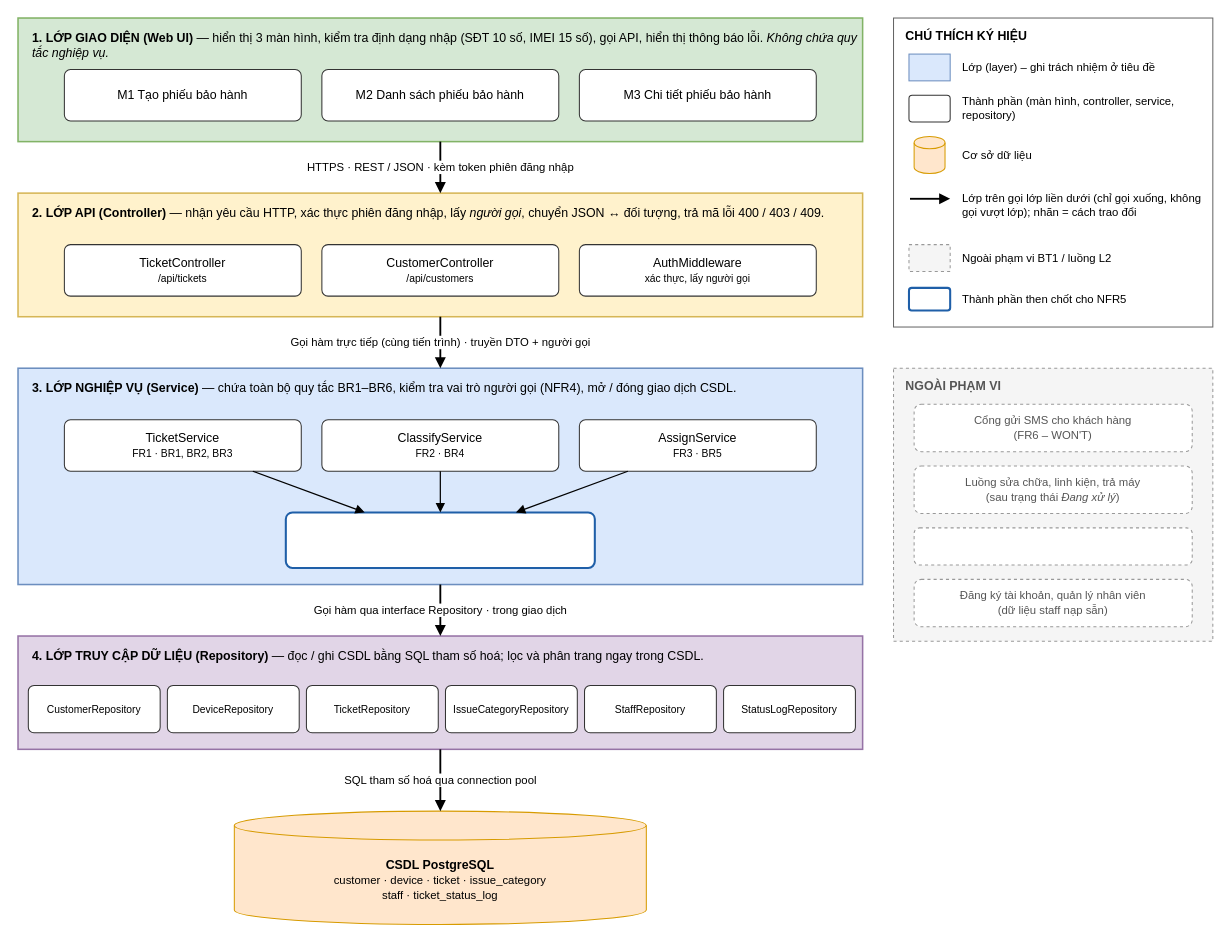
This 1232x943 diagram has some shape labels left out. Here are the shapes that lost their labels. From the top down, the centre of each, then its label:
At (x=439, y=540): "StatusService FR5 · BR6 · nơi DUY NHẤT đổi trạng thái + ghi lịch sử".
At (x=1052, y=546): "Thiết kế triển khai, máy chủ, mạng".
